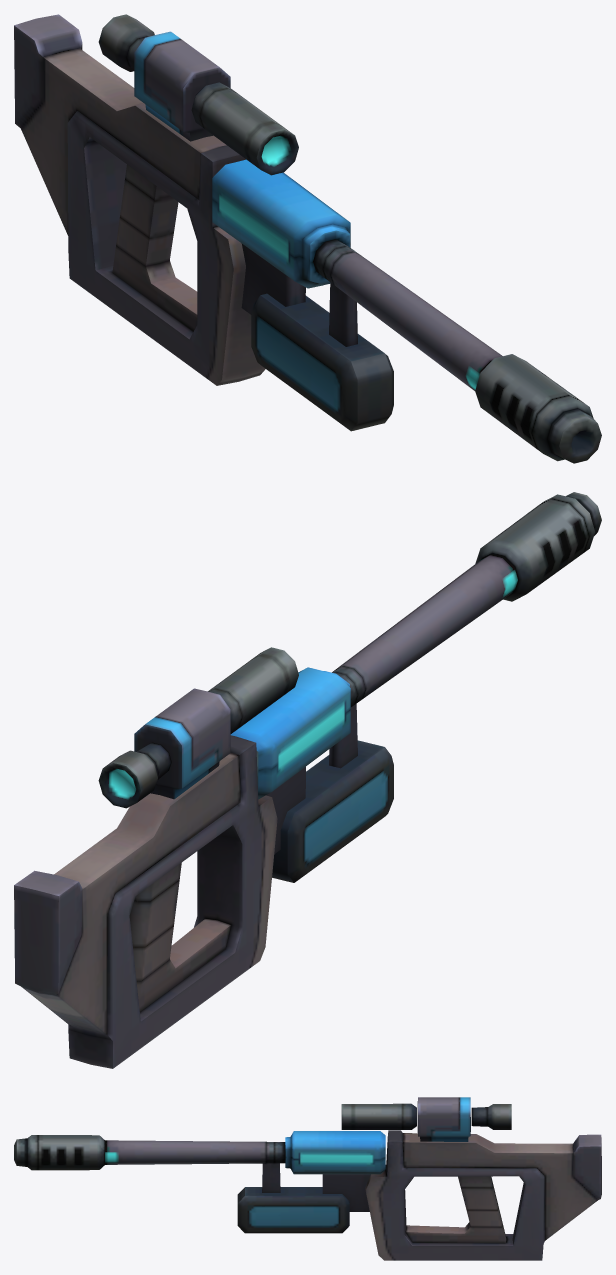
Rendered from DrisqSniper.fbx.
3 views of the same model, one above another, from view 1: azimuth 30°, elevation 25°; view 2: azimuth 150°, elevation 25°; view 3: azimuth 270°, elevation 25° (orthographic). The views are drawn at different scales.
Visible parts, largest first — view 1: DrisqSniper; view 2: DrisqSniper; view 3: DrisqSniper.
Boxes of the visible parts, x1,y1,x2,y2 form: DrisqSniper: [14, 14, 601, 463]; DrisqSniper: [14, 492, 601, 1068]; DrisqSniper: [14, 1097, 601, 1260].
Size of the model in its own units: 0.0927 by 1.48 by 0.4289.
